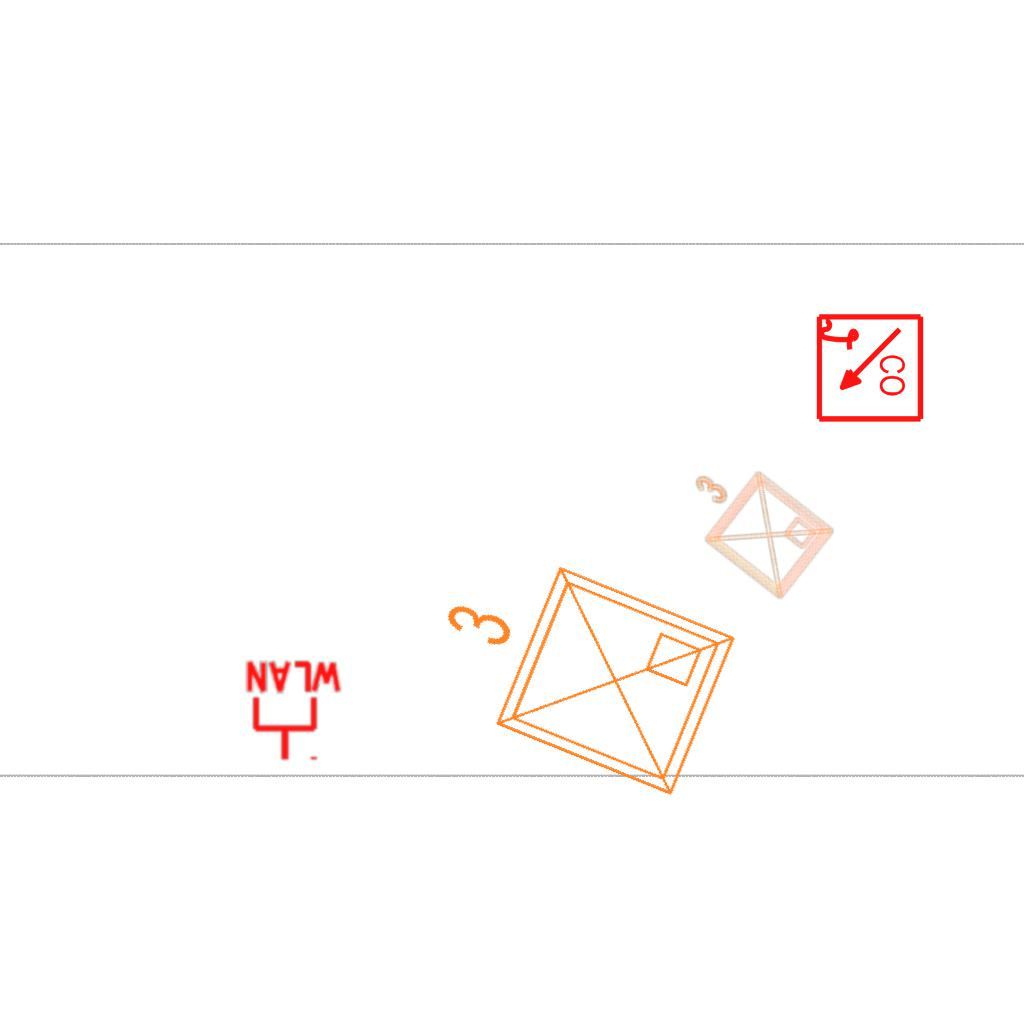Einbaudownlights_LED_Konferenzraeume: (397, 516, 755, 822), (660, 436, 844, 612)
ROA_Rauchmelder_optisch_mit_Signalgeber_(Sockelsirene): (812, 312, 925, 425)
WLAN: (242, 659, 346, 764)
